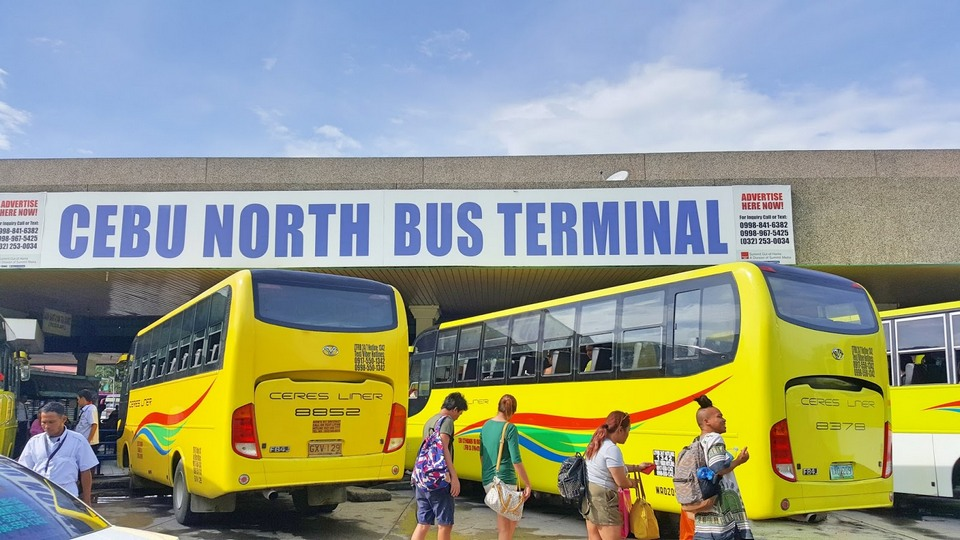bus: (424, 266, 894, 516), (122, 271, 407, 516)
person: (681, 391, 763, 540), (562, 412, 643, 540), (416, 389, 465, 540), (28, 402, 99, 501), (484, 395, 521, 540)
